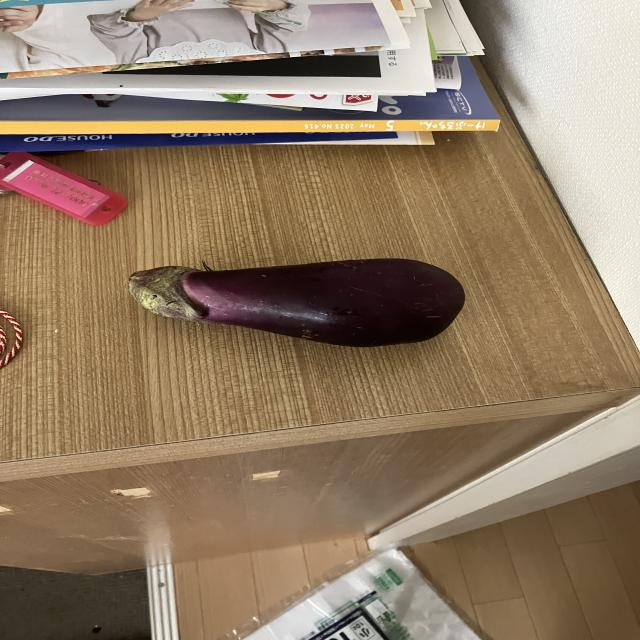eggplant: (125, 255, 469, 350)
